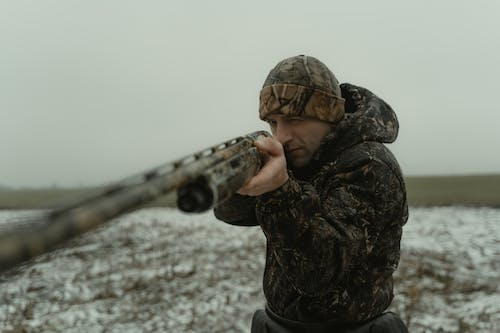gun: (0, 129, 273, 281)
